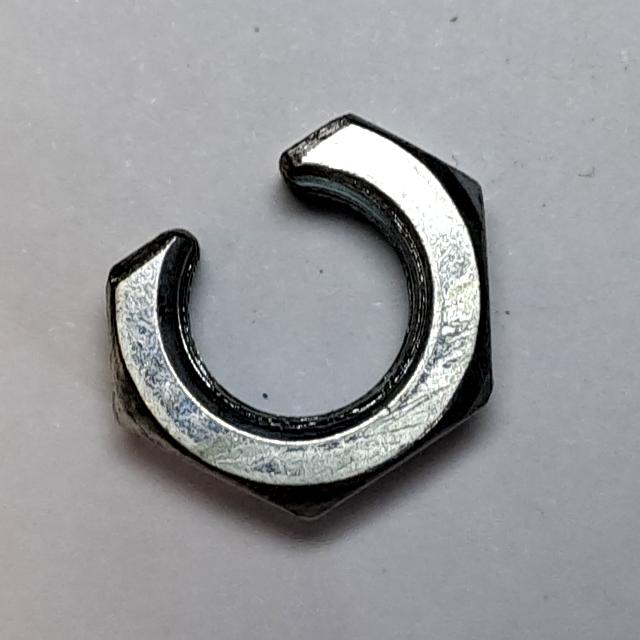Fracture: (91, 89, 522, 539)
